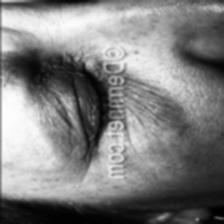Toxin: (122, 73, 180, 163)
